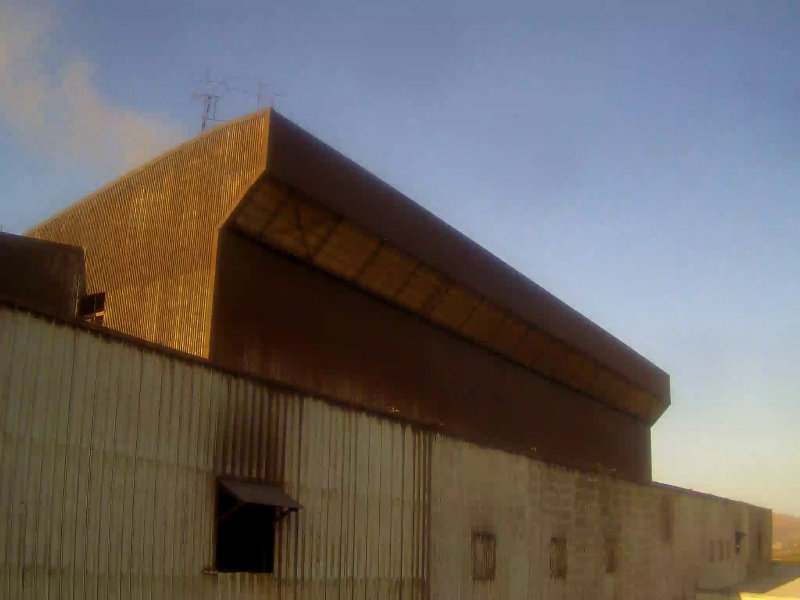bom: (201, 12, 799, 443)
ruim: (2, 2, 194, 193)
